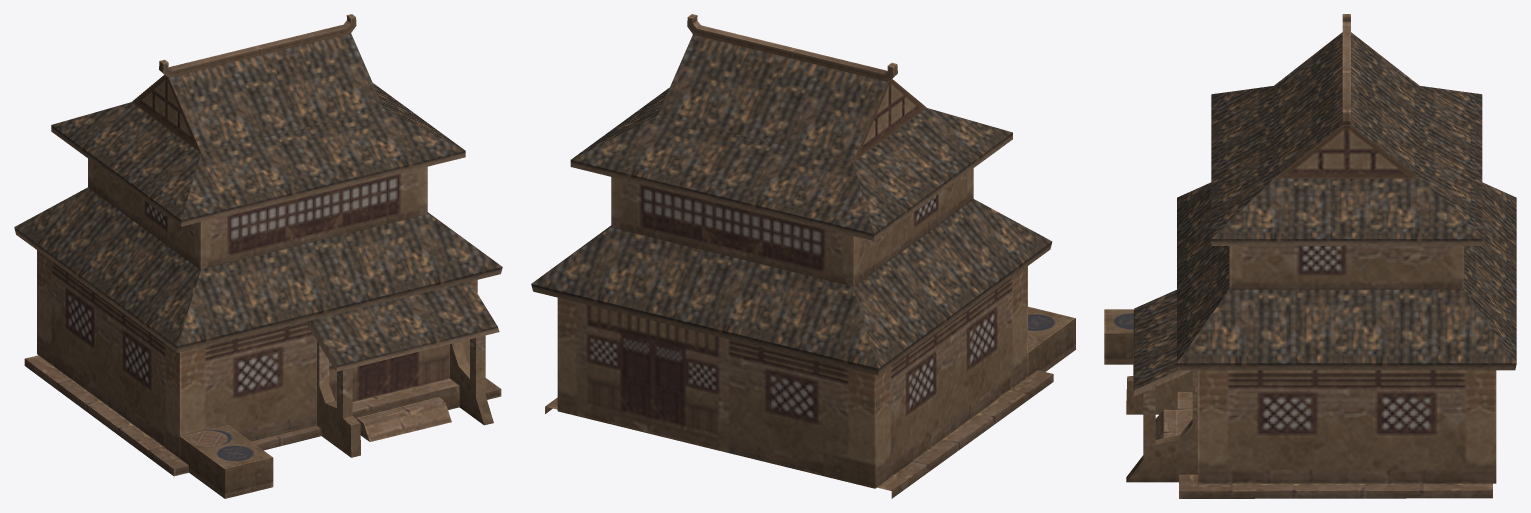
The model's file is b_qy_minju_01_lod2.FBX.
The picture shows the model from 3 angles, left to right: view 1: azimuth 30°, elevation 25°; view 2: azimuth 150°, elevation 25°; view 3: azimuth 270°, elevation 25°; orthographic projection. The views are drawn at different scales.
Parts seen in each view (by area): view 1: b_qy_minju_01_lod2; view 2: b_qy_minju_01_lod2; view 3: b_qy_minju_01_lod2.
Boxes of the visible parts, bbox=[...] form: b_qy_minju_01_lod2: bbox=[14, 14, 502, 498]; b_qy_minju_01_lod2: bbox=[531, 14, 1075, 498]; b_qy_minju_01_lod2: bbox=[1104, 14, 1516, 498].
Size of the model in its own units: 15.22 by 15.02 by 15.91.
